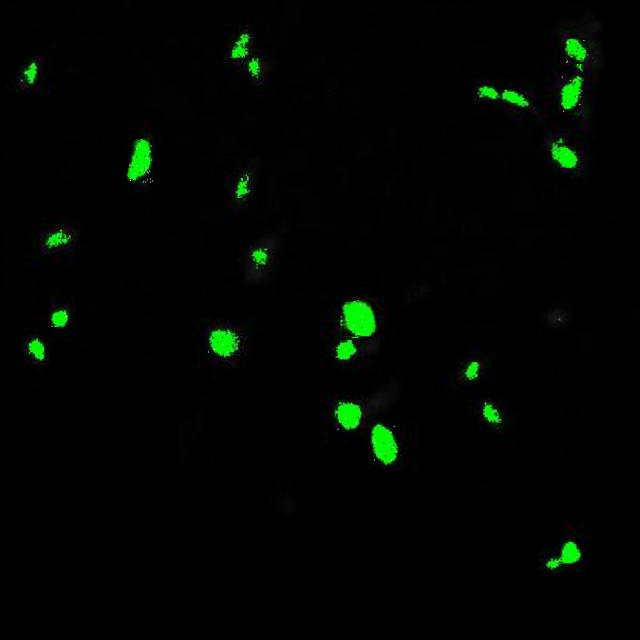Cell: (338, 299, 374, 337), (126, 138, 152, 182), (556, 74, 582, 112), (370, 424, 394, 462), (549, 141, 577, 168), (334, 404, 360, 431), (207, 331, 236, 353), (564, 37, 586, 64), (49, 304, 67, 326)
